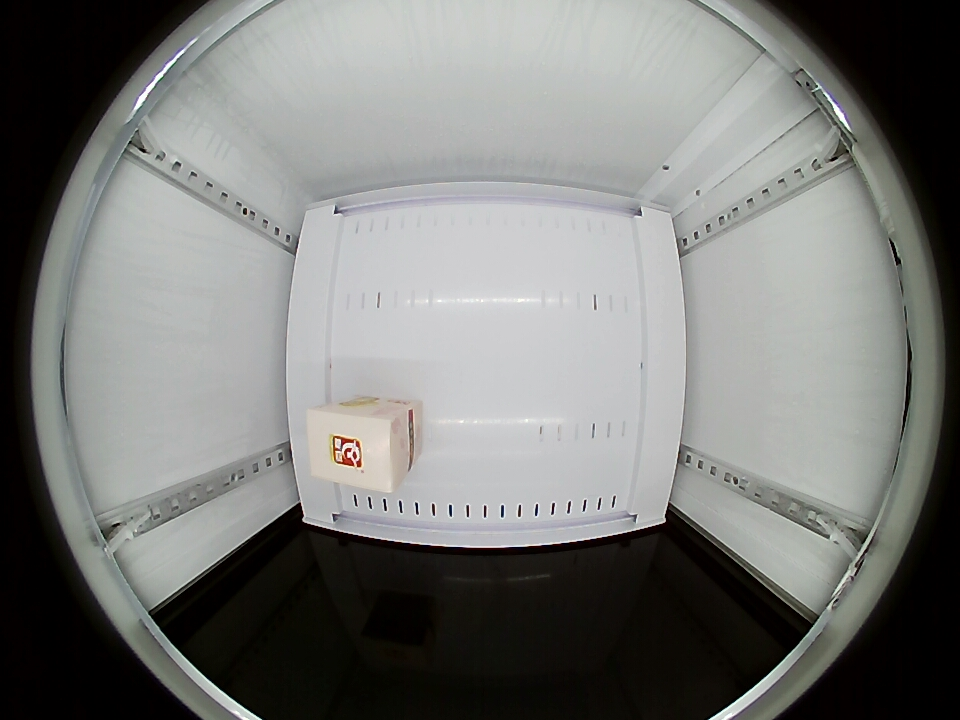rousongbing: (307, 401, 412, 493)
